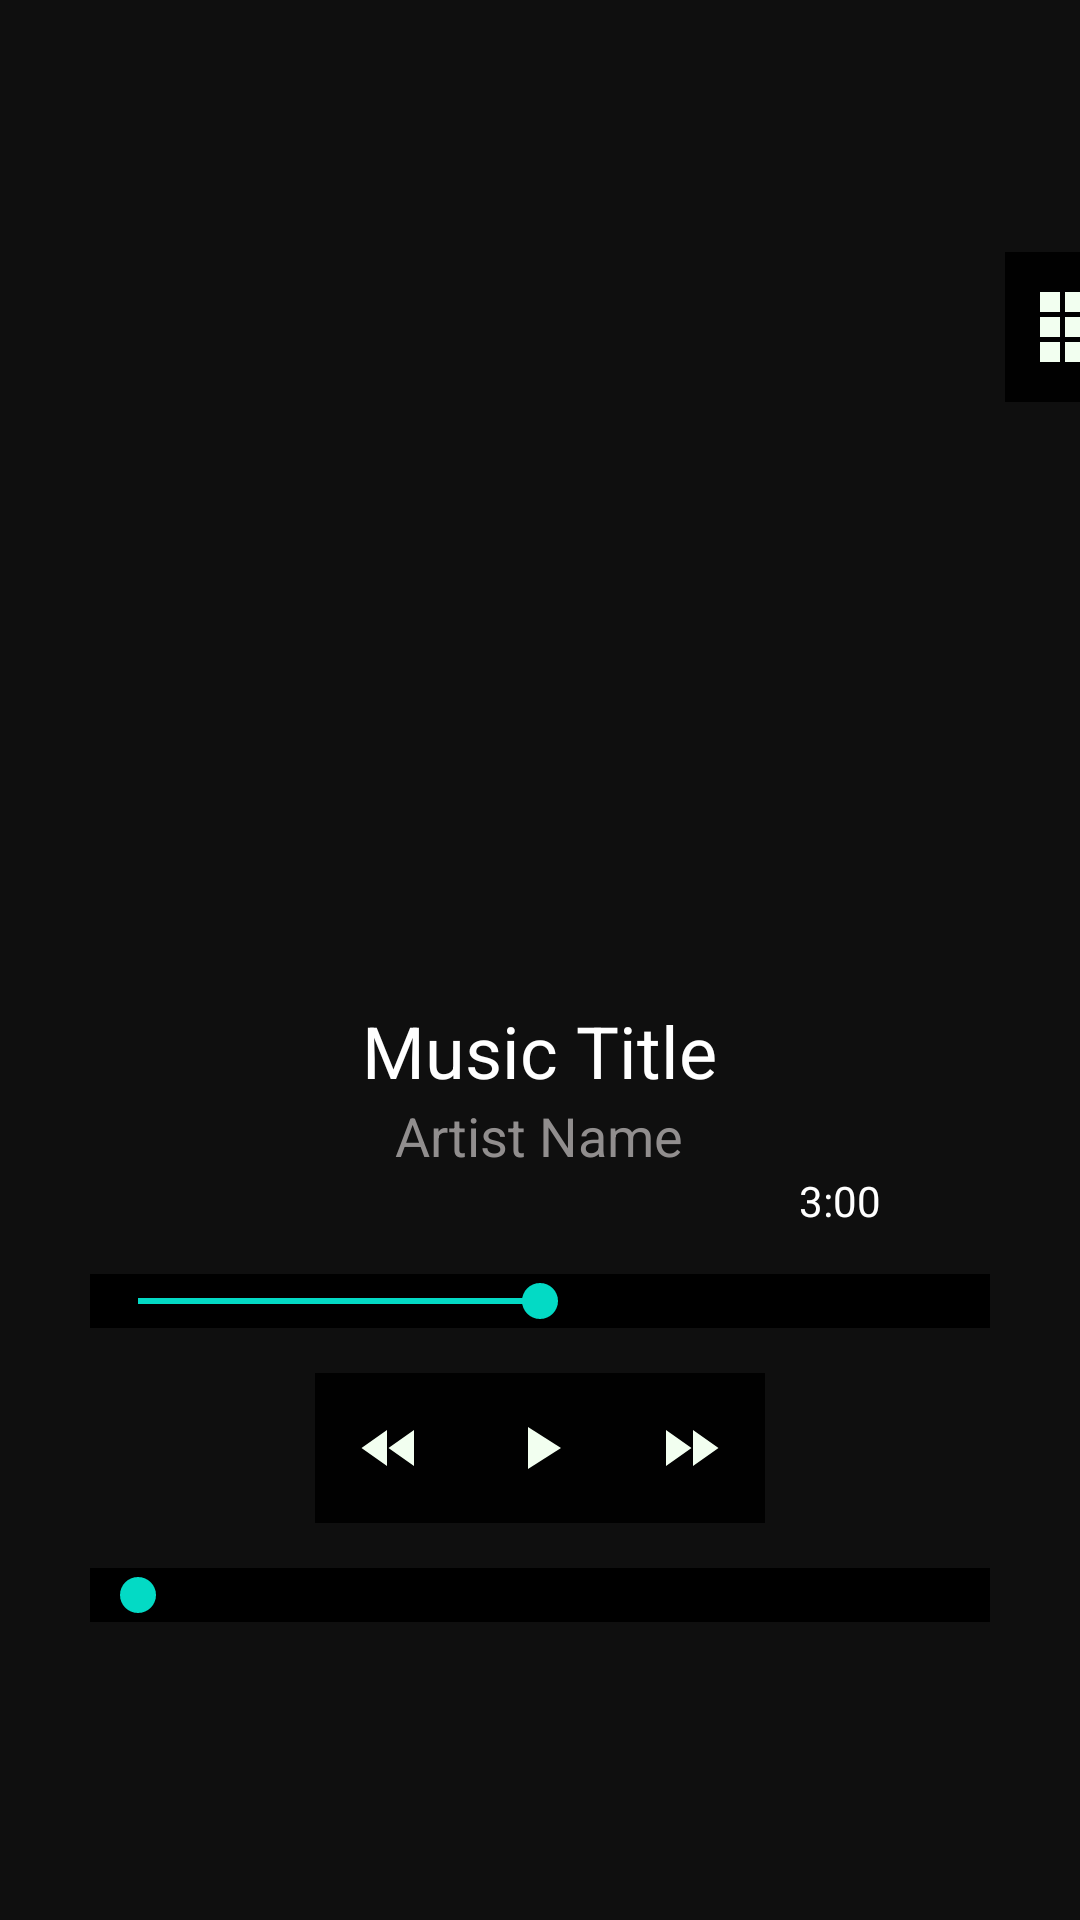

Named icons in this screenshot (1080px x 1920px) and their bounding boxes, detection(x1, y1, x2, y2):
fast forward: detection(666, 1430, 718, 1466)
fast rewind: detection(362, 1430, 414, 1466)
play arrow: detection(528, 1427, 561, 1469)
